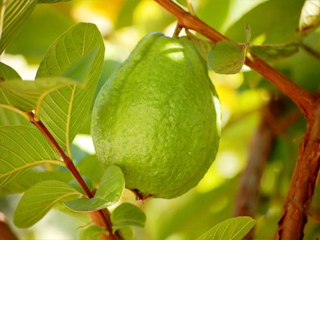oi: (91, 23, 220, 209)
